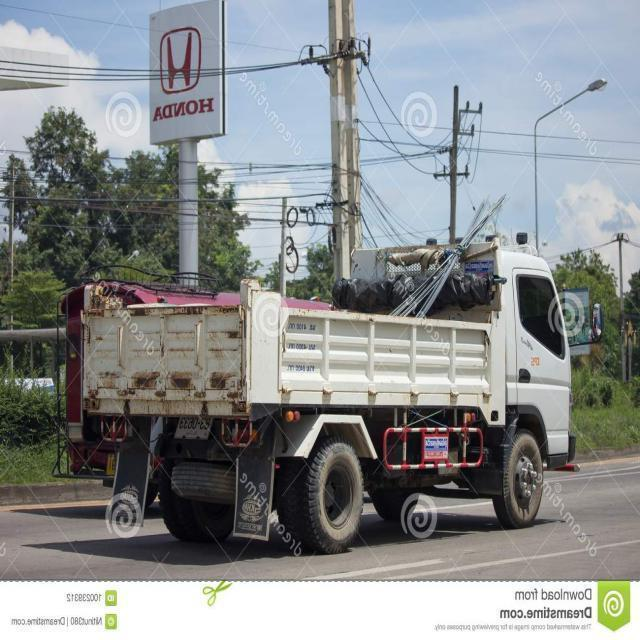truck: (56, 195, 578, 550)
